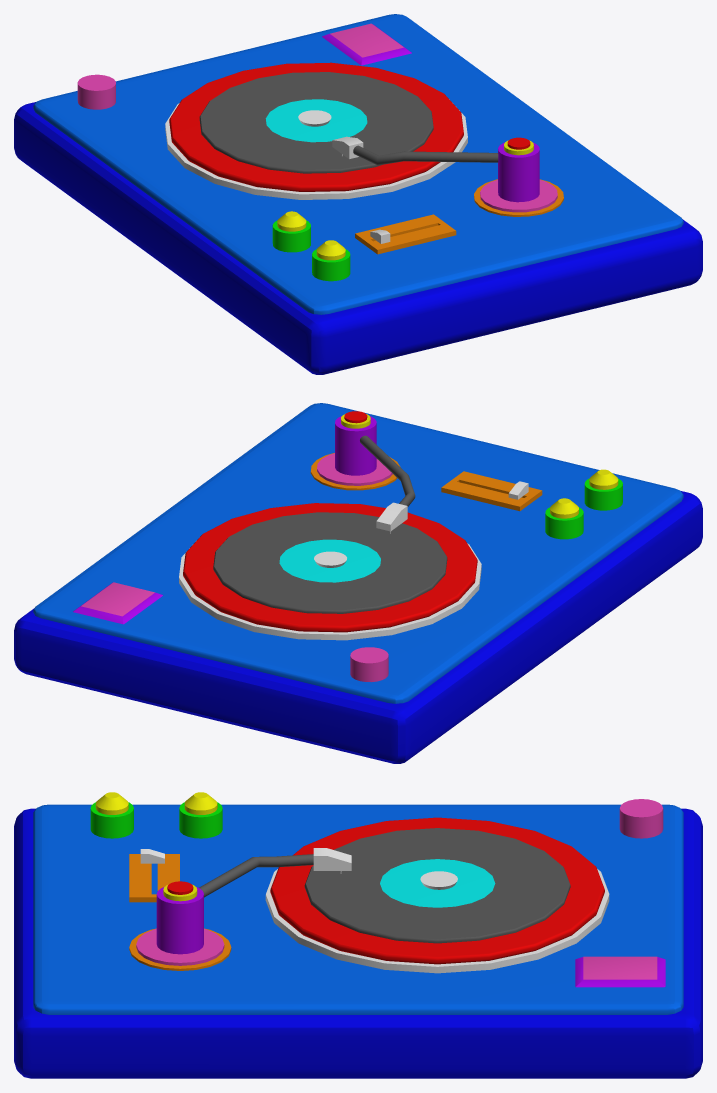
File: disk.fbx
The picture shows the model from 3 angles, top to bottom: view 1: azimuth 30°, elevation 25°; view 2: azimuth 150°, elevation 25°; view 3: azimuth 270°, elevation 25°; orthographic projection. The views are drawn at different scales.
Parts seen in each view (by area): view 1: pCube11, pCube10, pCylinder11, pCylinder10, pCylinder9, pCube15, pCylinder12, pCube12, pCylinder15, pCylinder14, pCylinder19, pCylinder21 (+2 smaller); view 2: pCube11, pCube10, pCylinder11, pCylinder10, pCylinder9, pCube15, pCube12, pCylinder12, pCylinder19, pCylinder14, pCylinder15, pCylinder7 (+3 smaller); view 3: pCube11, pCube10, pCylinder11, pCylinder10, pCylinder9, pCube15, pCylinder12, pCube12, pCylinder14, pCylinder19, pCylinder15, pCylinder7 (+6 smaller).
Part boxes in pixels (left/top/right/bottom): pCube11: left=33, top=14, right=683, bottom=314; pCube10: left=14, top=102, right=702, bottom=374; pCylinder11: left=199, top=72, right=433, bottom=173; pCylinder10: left=169, top=62, right=463, bottom=191; pCylinder9: left=165, top=99, right=467, bottom=199; pCube15: left=322, top=23, right=411, bottom=65; pCylinder12: left=498, top=142, right=539, bottom=202; pCube12: left=355, top=214, right=456, bottom=254; pCylinder15: left=353, top=145, right=498, bottom=165; pCylinder14: left=480, top=179, right=557, bottom=212; pCylinder19: left=77, top=74, right=115, bottom=109; pCylinder21: left=272, top=220, right=310, bottom=252; pCube11: left=33, top=403, right=683, bottom=703; pCube10: left=14, top=491, right=702, bottom=763; pCylinder11: left=213, top=512, right=447, bottom=613; pCylinder10: left=183, top=503, right=477, bottom=632; pCylinder9: left=179, top=543, right=481, bottom=640; pCube15: left=73, top=582, right=162, bottom=624; pCube12: left=441, top=471, right=542, bottom=511; pCylinder12: left=335, top=416, right=376, bottom=475; pCylinder19: left=350, top=647, right=388, bottom=682; pCylinder14: left=317, top=453, right=392, bottom=485; pCylinder15: left=360, top=435, right=415, bottom=506; pCylinder7: left=584, top=478, right=622, bottom=510; pCube11: left=33, top=804, right=683, bottom=1014; pCube10: left=14, top=808, right=702, bottom=1078; pCylinder11: left=304, top=828, right=570, bottom=943; pCylinder10: left=270, top=817, right=604, bottom=964; pCylinder9: left=265, top=869, right=609, bottom=973; pCube15: left=575, top=956, right=665, bottom=987; pCylinder12: left=156, top=887, right=203, bottom=954; pCube12: left=129, top=854, right=179, bottom=902; pCylinder14: left=136, top=929, right=224, bottom=965; pCylinder19: left=619, top=799, right=663, bottom=838; pCylinder15: left=199, top=854, right=313, bottom=897; pCylinder7: left=90, top=802, right=133, bottom=838.
Bounding box in the file's own units: 17.03 × 4.88 × 22.76.
